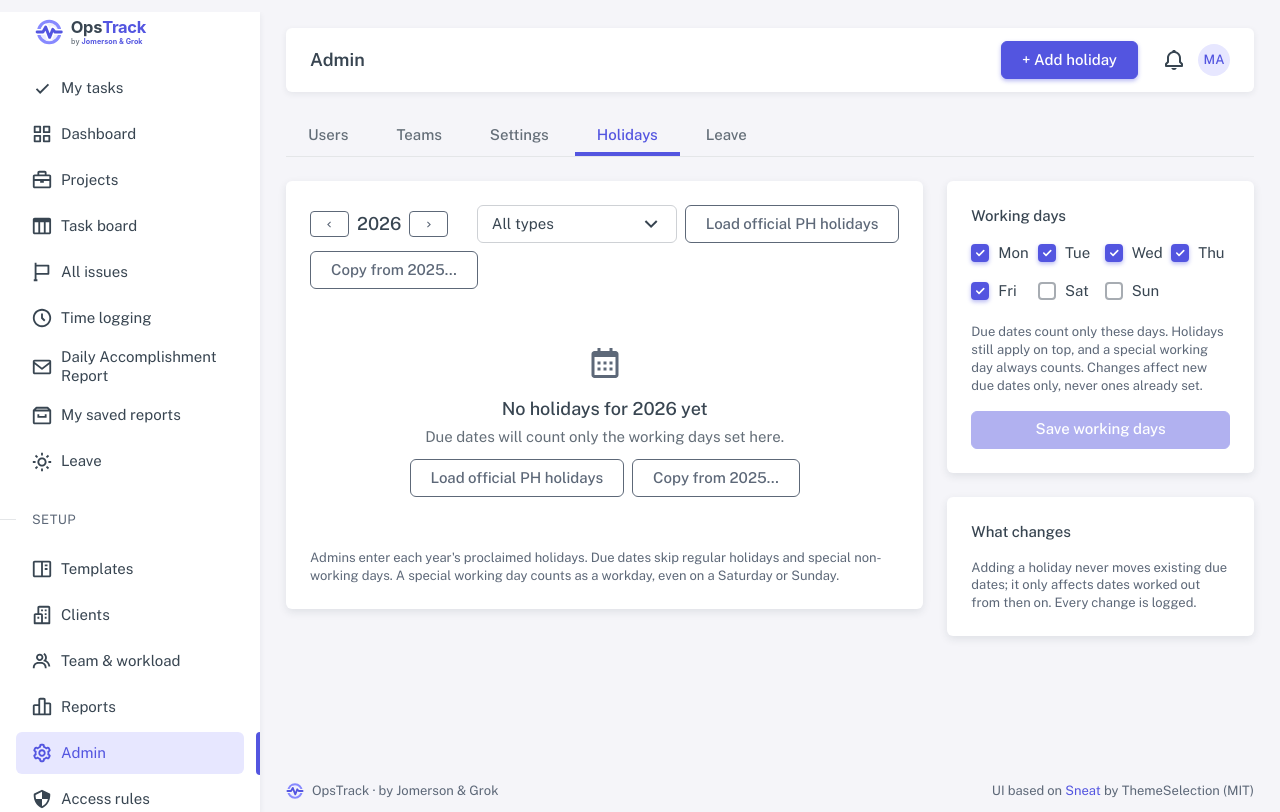
Admin › Holidays › official Philippine holidays (seed data) › an empty 2026 or 2027 offers "Load official PH holidays"
Click the 1st button "Load official PH holidays" at x=792, y=224, box top-left (685, 205), bottom-right (899, 243)
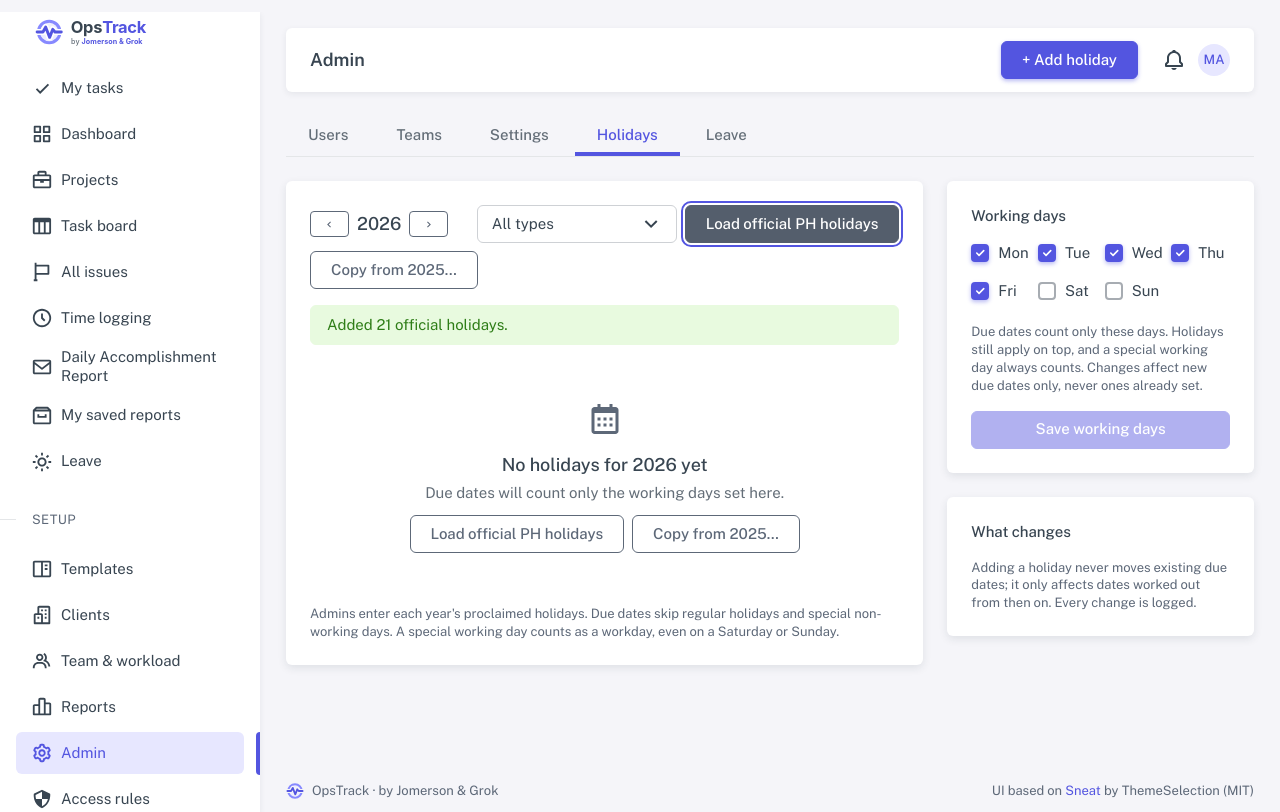
Check: the text "Added 21 official holidays." is shown, box top-left (310, 305), bottom-right (899, 345)
